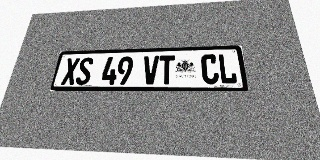4: (101, 57, 119, 85)
9: (116, 56, 134, 85)
C: (201, 54, 219, 84)
L: (217, 53, 238, 84)
S: (75, 57, 94, 85)
T: (158, 55, 175, 84)
V: (142, 56, 159, 84)
X: (61, 58, 80, 85)
